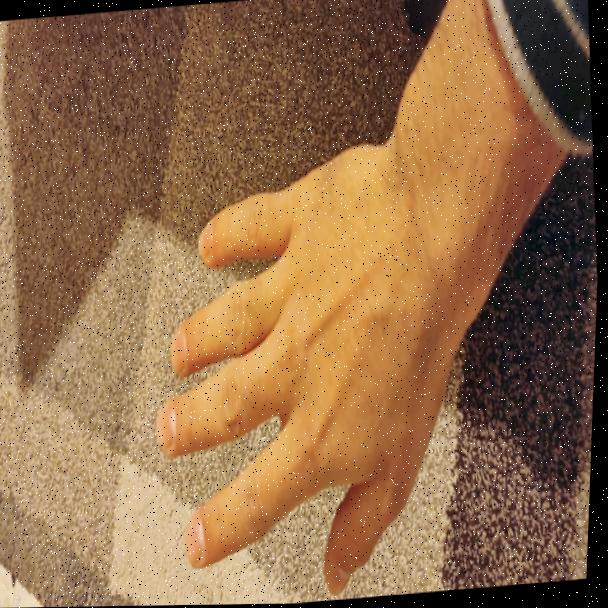one: (136, 120, 470, 603)
